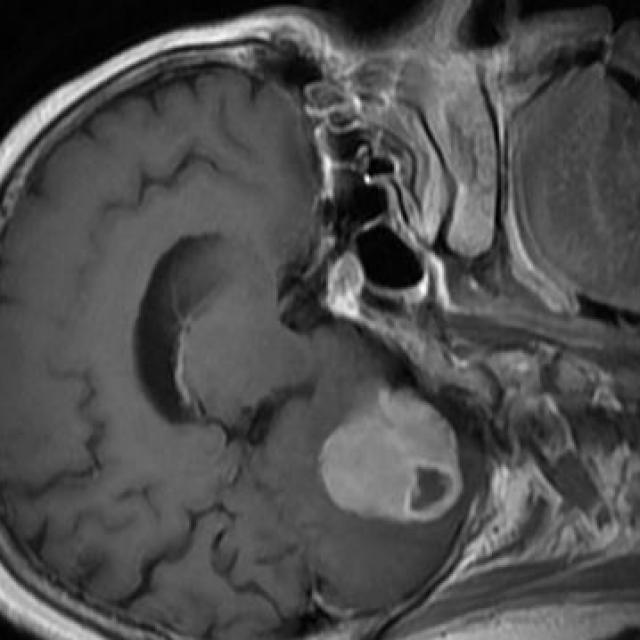meningioma: (317, 390, 462, 522)
